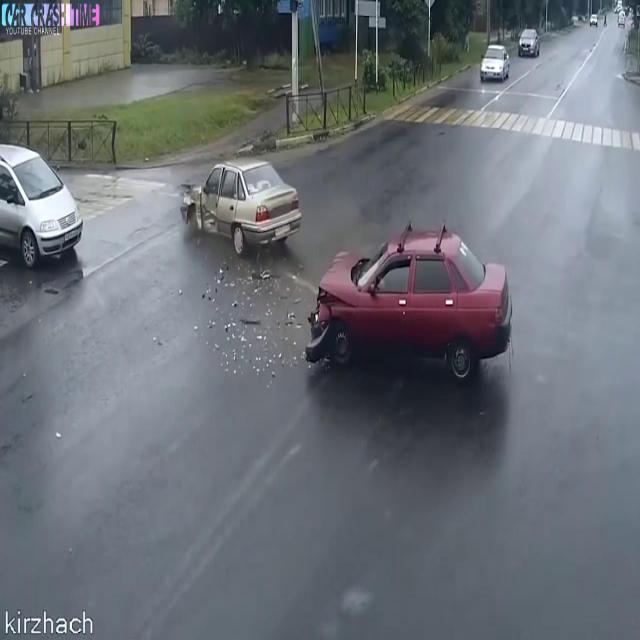accident: (167, 140, 518, 397)
